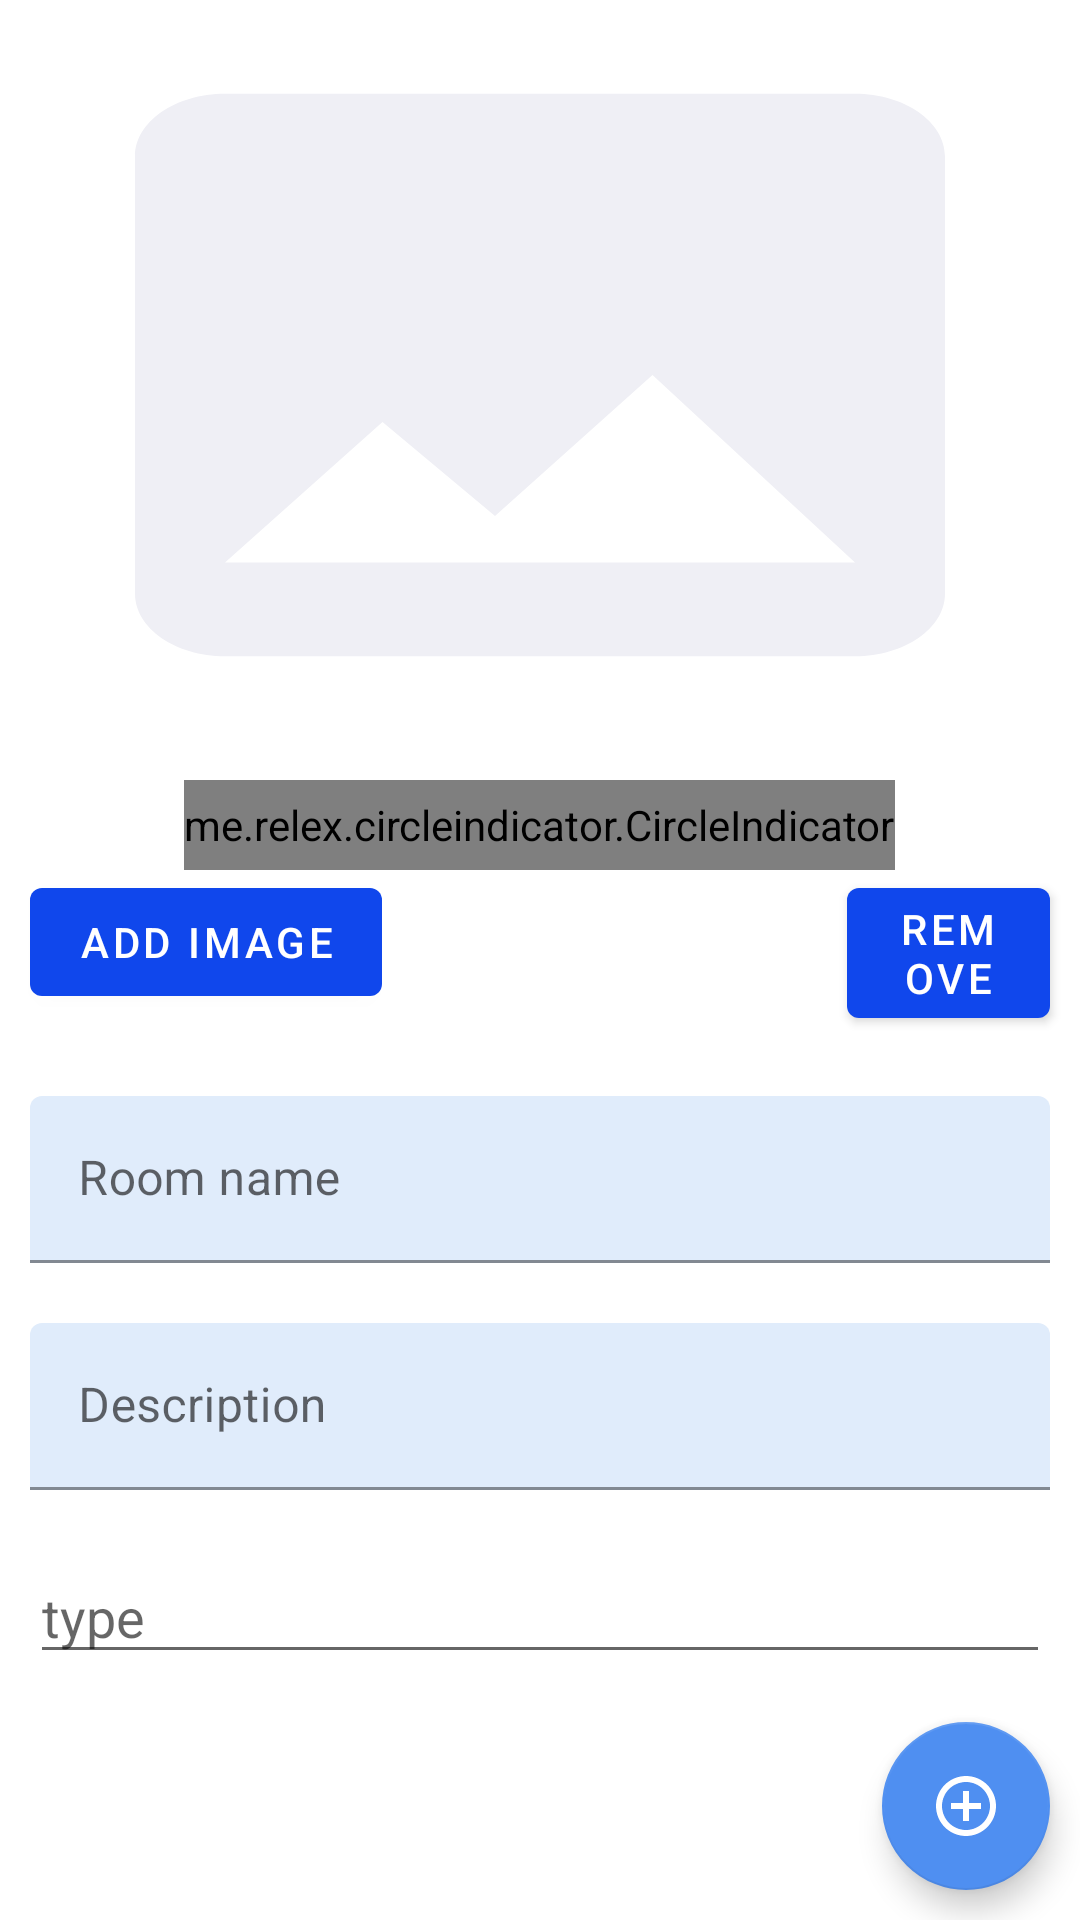

Icon click points for this 1080 × 1920 phone screenshot, format [x,y]:
add circle: [966,1806]
